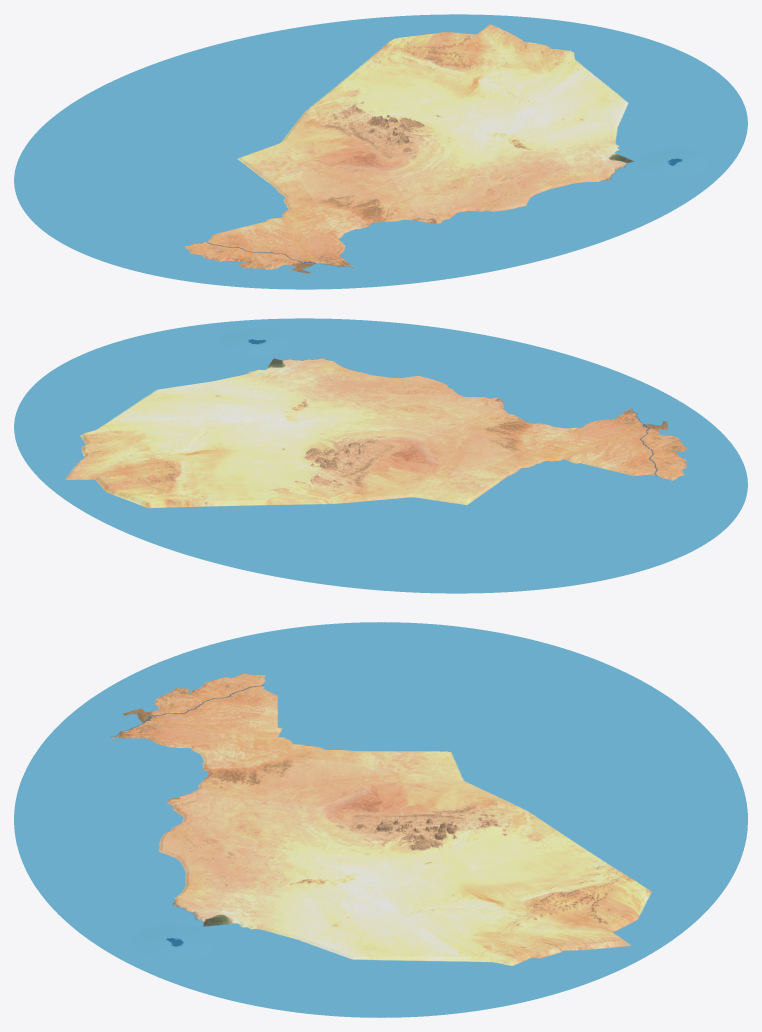
The model's file is NER-previa-terrain.glb.
3 renders of one model, top to bottom at view 1: azimuth 30°, elevation 25°; view 2: azimuth 150°, elevation 25°; view 3: azimuth 270°, elevation 25°, orthographic. The views are drawn at different scales.
Parts seen in each view (by area): view 1: Níger; view 2: Níger; view 3: Níger.
Part boxes in pixels (box(x1,y1,x2,y2)): Níger: box(14, 14, 747, 289); Níger: box(14, 318, 747, 593); Níger: box(14, 622, 747, 1017).
Bounding box in the file's own units: 2.38 × 0.0291 × 1.87.
1 material, 1 textured.
